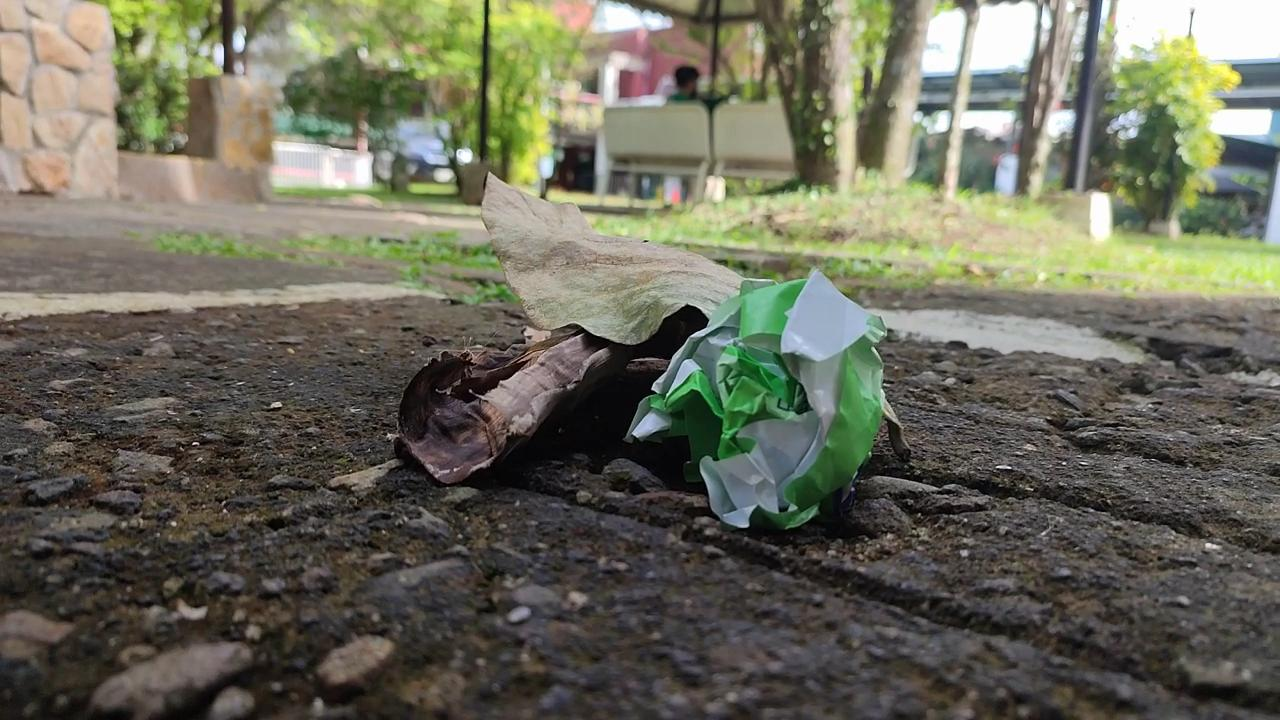Paper: (613, 261, 893, 544)
